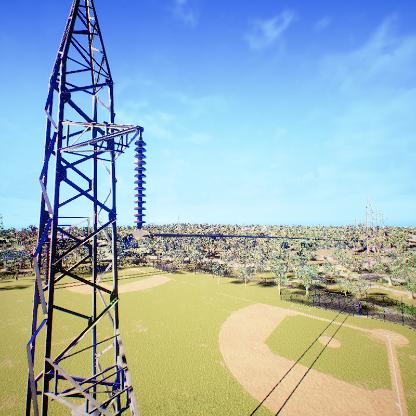insulator: (131, 138, 147, 230)
